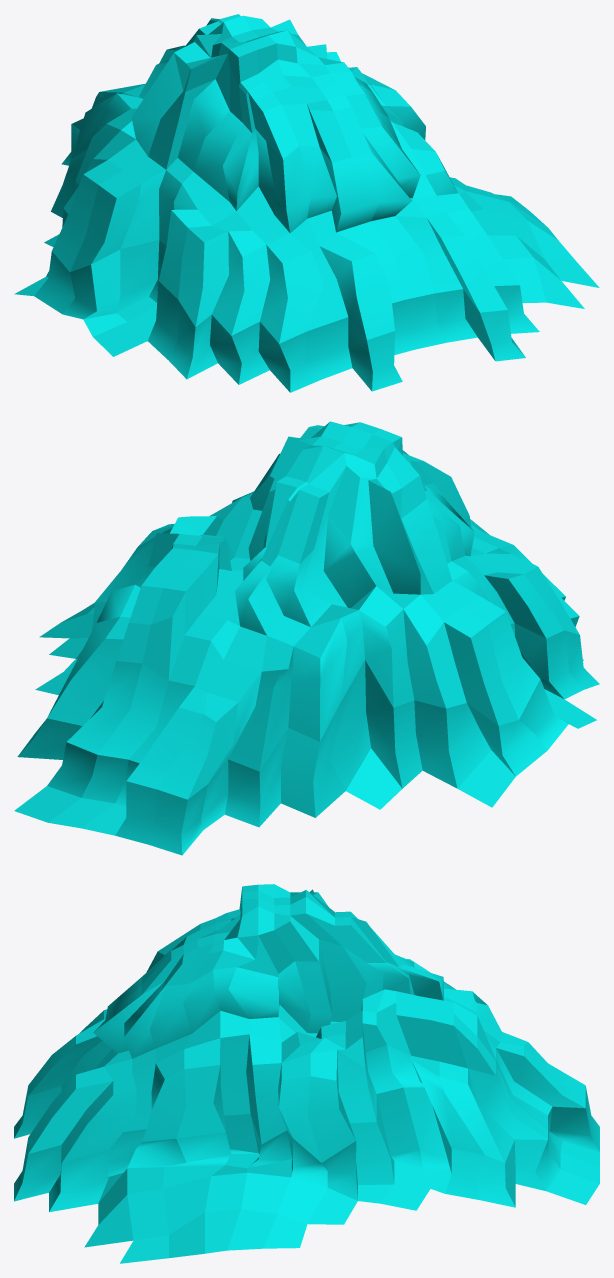
File: Rock_Mountain_01.fbx
3 views of the same model, one above another, from view 1: azimuth 30°, elevation 25°; view 2: azimuth 150°, elevation 25°; view 3: azimuth 270°, elevation 25° (orthographic). The views are drawn at different scales.
Visible parts, largest first — view 1: Mountain_01; view 2: Mountain_01; view 3: Mountain_01.
Part boxes in pixels (<box>): Mountain_01: <box>14,14,599,392</box>; Mountain_01: <box>14,421,599,855</box>; Mountain_01: <box>14,884,599,1263</box>.
Size of the model in its own units: 1869 by 1026 by 2196.
